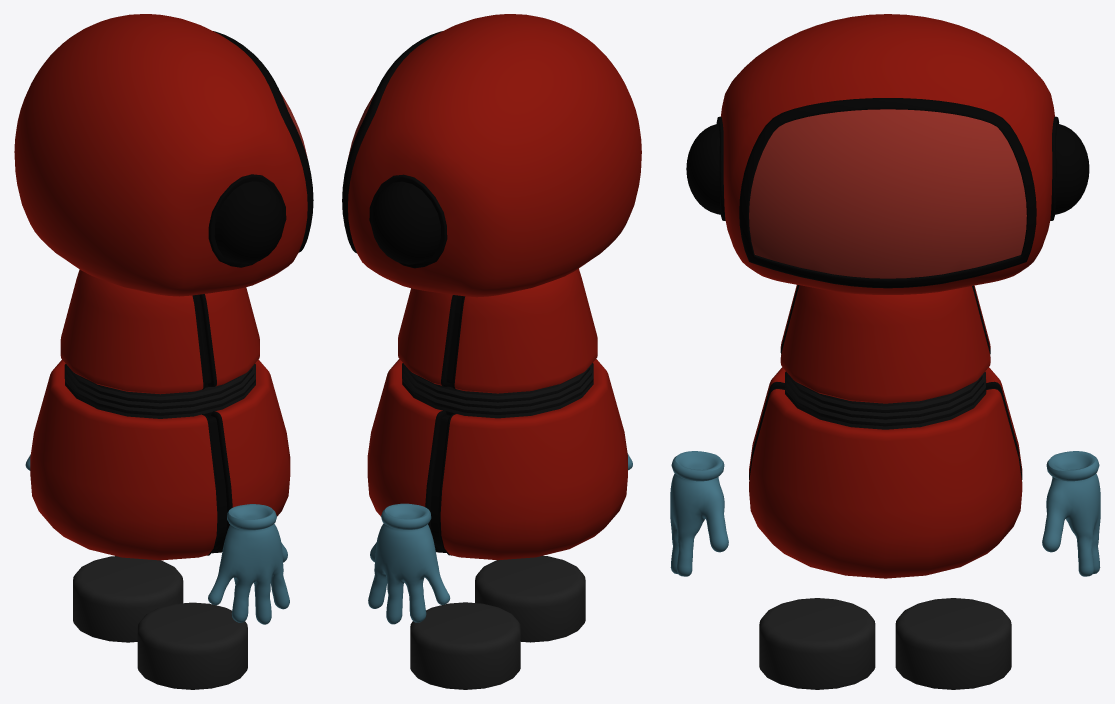
File: Robot.fbx
The picture shows the model from 3 angles, left to right: view 1: azimuth 30°, elevation 25°; view 2: azimuth 150°, elevation 25°; view 3: azimuth 270°, elevation 25°; orthographic projection. The views are drawn at different scales.
Parts seen in each view (by area): view 1: Cuerpo; view 2: Cuerpo; view 3: Cuerpo.
Boxes of the visible parts, left/top/right/bottom form: Cuerpo: left=14, top=14, right=313, bottom=689; Cuerpo: left=342, top=14, right=641, bottom=689; Cuerpo: left=670, top=14, right=1100, bottom=689.
Bounding box in the file's own units: 24.71 × 61.5 × 37.35.
